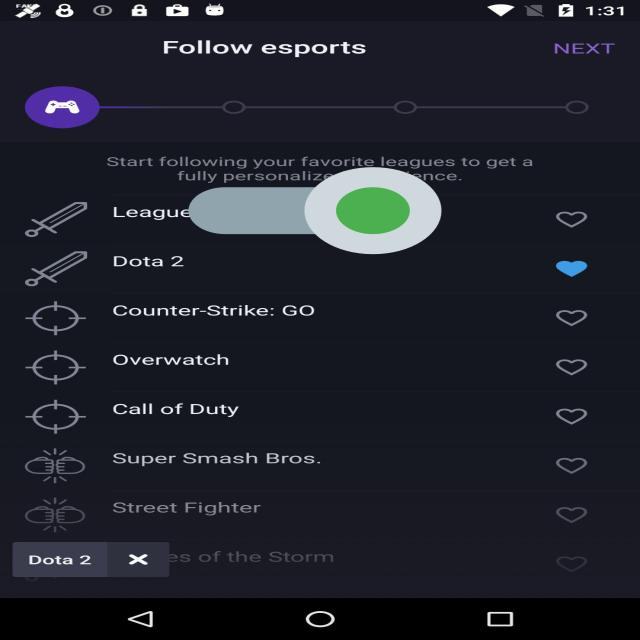social proof: (188, 130, 442, 291)
